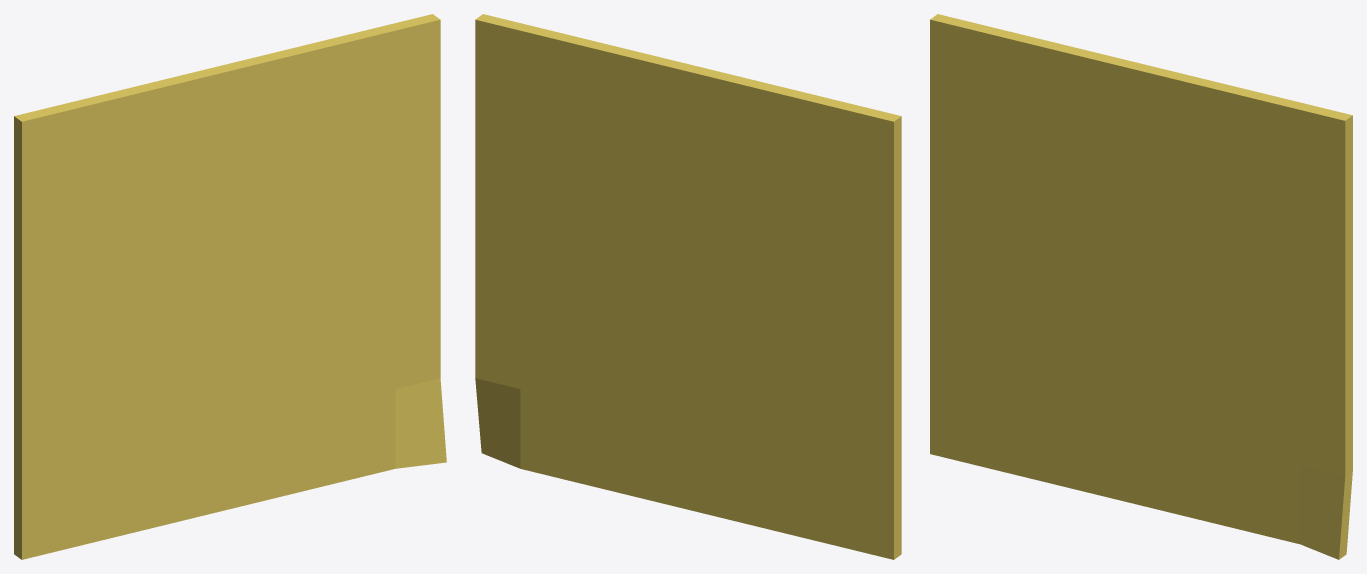
File: postItNote.fbx
The picture shows the model from 3 angles, left to right: view 1: azimuth 30°, elevation 25°; view 2: azimuth 150°, elevation 25°; view 3: azimuth 330°, elevation 25°; orthographic projection.
Parts seen in each view (by area): view 1: Post It Note; view 2: Post It Note; view 3: Post It Note.
Part boxes in pixels (x1=…): Post It Note: x1=14, y1=14, x2=446, y2=559; Post It Note: x1=475, y1=14, x2=901, y2=559; Post It Note: x1=930, y1=14, x2=1352, y2=559.
Bounding box in the file's own units: 6.25 × 0.3637 × 6.25.
